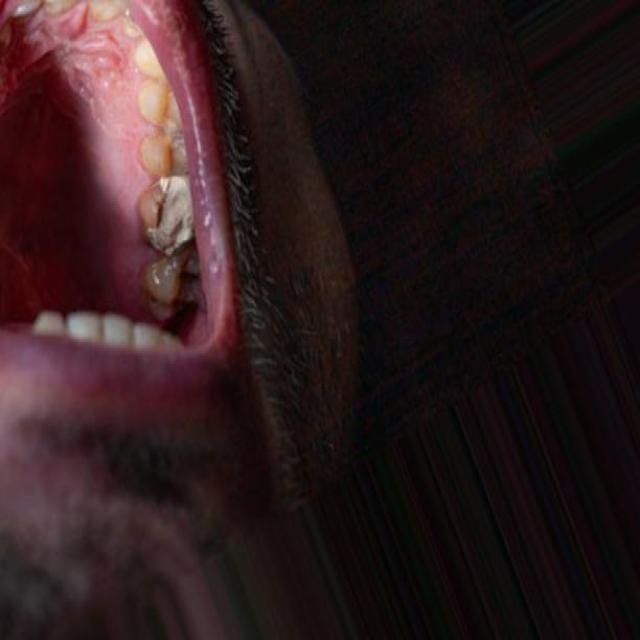caries: (134, 172, 198, 260)
